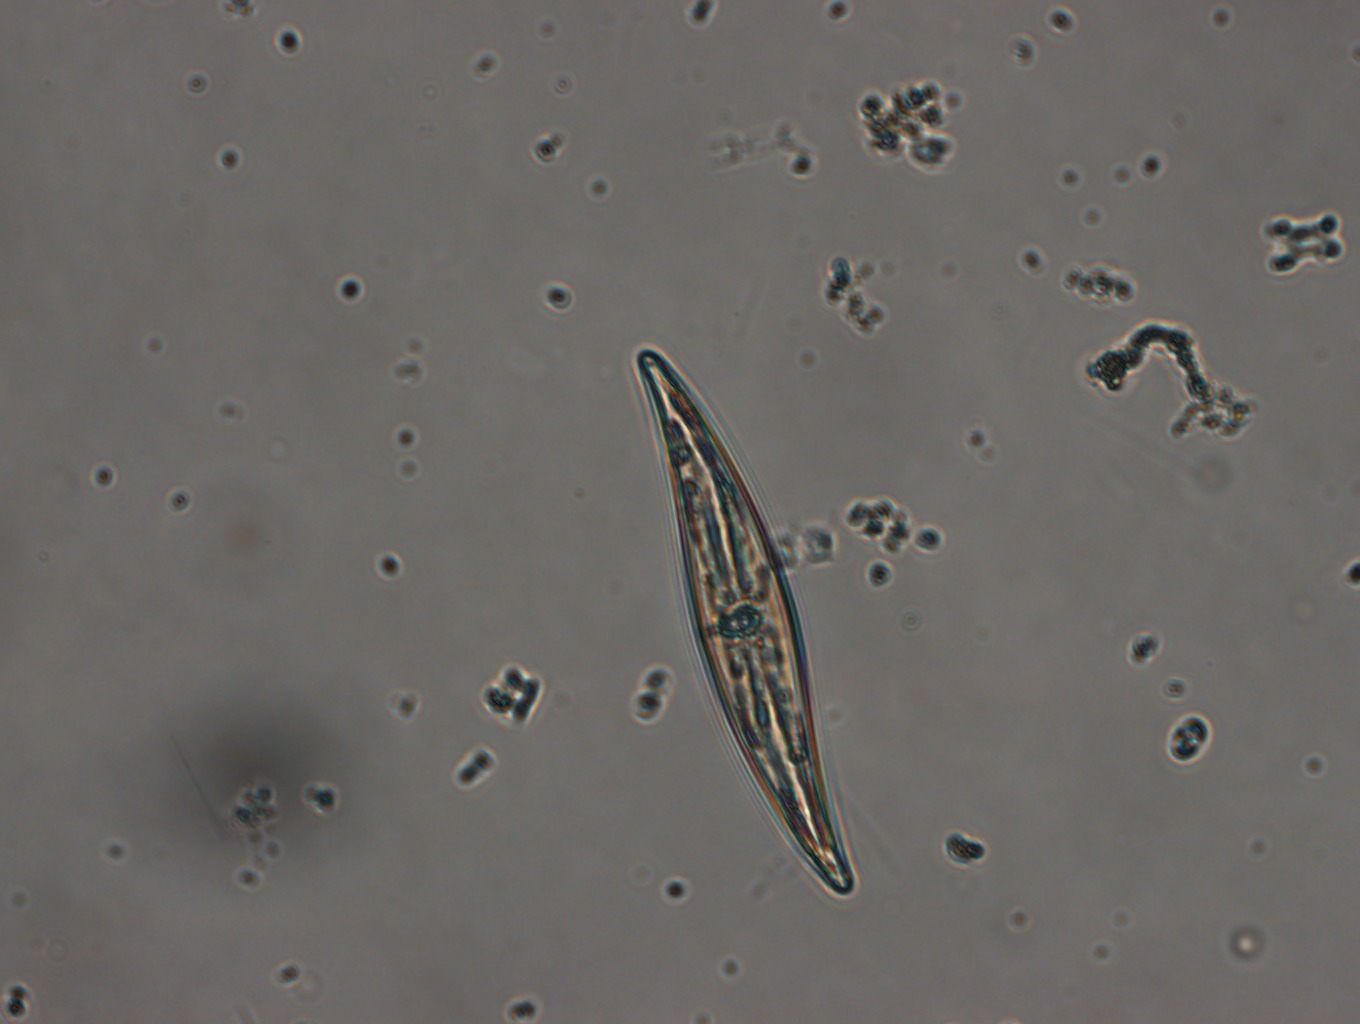pleurosigma pelagicum: (630, 340, 871, 904)
